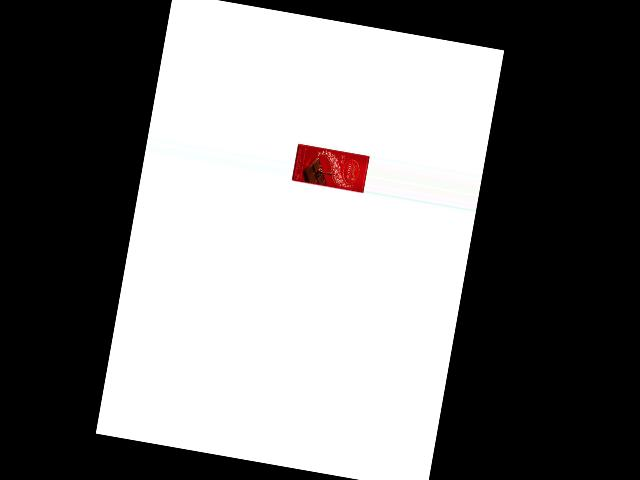chocolate: (291, 142, 369, 196)
